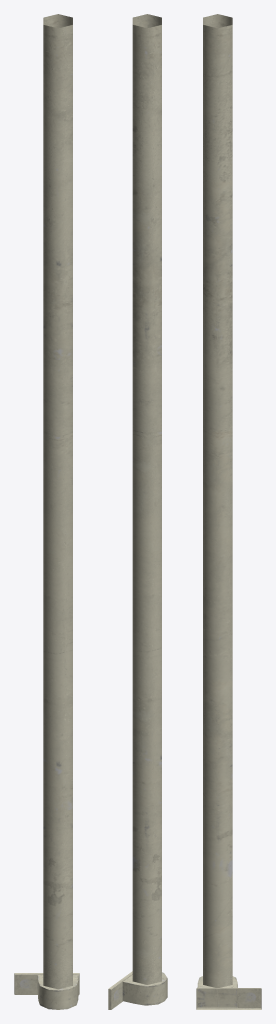
Rendered from SM_Wall_Electrical_Wire_Casing_05a.fbx.
3 views of the same model, side by side, from view 1: azimuth 90°, elevation 25°; view 2: azimuth 150°, elevation 25°; view 3: azimuth 270°, elevation 25° (orthographic).
Parts seen in each view (by area): view 1: SM_Wall_Electrical_Wire_Casing_05a_LOD0; view 2: SM_Wall_Electrical_Wire_Casing_05a_LOD0; view 3: SM_Wall_Electrical_Wire_Casing_05a_LOD0.
Boxes of the visible parts, x1,y1,x2,y2 form: SM_Wall_Electrical_Wire_Casing_05a_LOD0: (14, 14, 79, 1009); SM_Wall_Electrical_Wire_Casing_05a_LOD0: (108, 14, 167, 1009); SM_Wall_Electrical_Wire_Casing_05a_LOD0: (196, 14, 261, 1009).
Size of the model in its own units: 2.68 by 4.41 by 72.99.
1 material, 1 textured.
